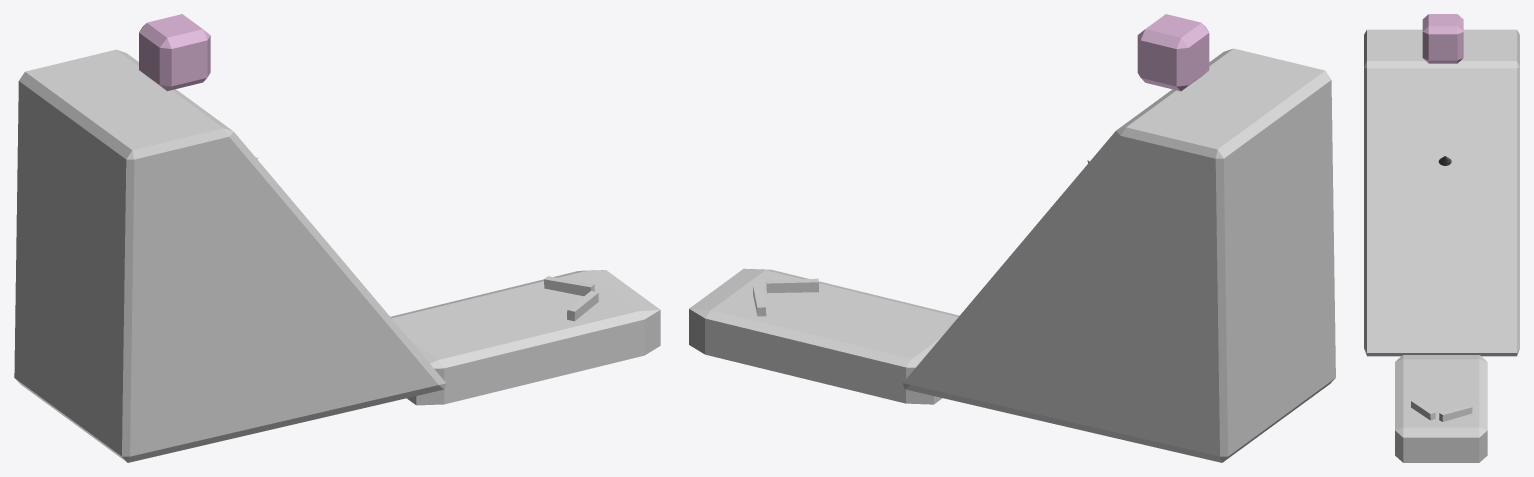
File: animation yolo portfolio.glb
3 views of the same model, side by side, from view 1: azimuth 30°, elevation 25°; view 2: azimuth 150°, elevation 25°; view 3: azimuth 270°, elevation 25° (orthographic). The views are drawn at different scales.
Visible parts, largest first — view 1: Cube.001, Cube.002, Cube, Cube.004; view 2: Cube.001, Cube.002, Cube, Cube.003; view 3: Cube.001, Cube.002, Cube, Cube.004, Cube.003.
Boxes of the visible parts, <box> form: Cube.001: <box>14,49,446,462</box>; Cube.002: <box>390,270,660,405</box>; Cube: <box>139,14,210,91</box>; Cube.004: <box>544,276,594,296</box>; Cube.001: <box>903,48,1335,462</box>; Cube.002: <box>689,268,959,404</box>; Cube: <box>1137,14,1209,91</box>; Cube.003: <box>766,278,818,293</box>; Cube.001: <box>1364,29,1519,356</box>; Cube.002: <box>1395,355,1487,462</box>; Cube: <box>1422,14,1463,63</box>; Cube.004: <box>1439,405,1472,421</box>; Cube.003: <box>1411,399,1435,420</box>.
Bounding box in the file's own units: 25.16 × 17.65 × 8.61.
